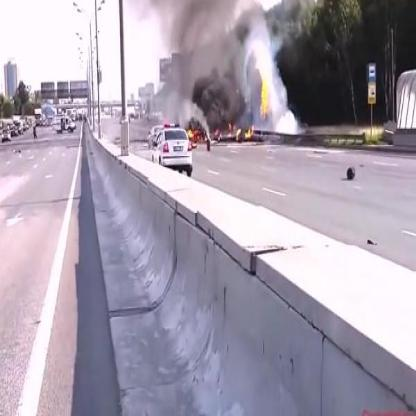fire: (258, 76, 270, 118), (236, 122, 255, 144), (188, 124, 204, 142)
